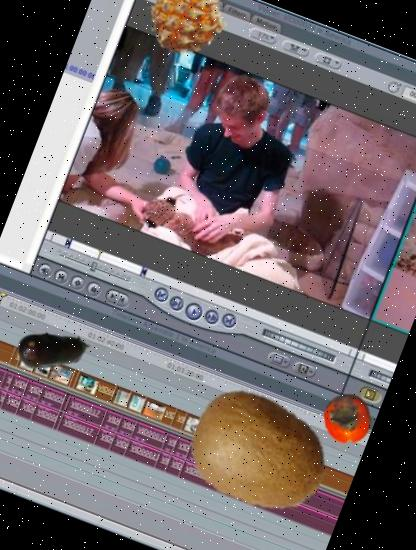Eggplant: (4, 302, 102, 400)
Kaki: (314, 386, 380, 452)
Kiwi: (166, 362, 348, 544)
Pineapple: (138, 0, 236, 68)
